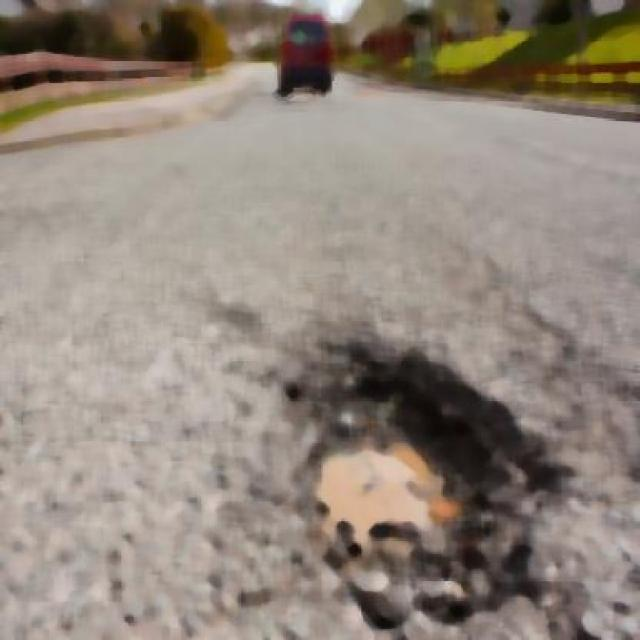Pothole: (294, 392, 444, 602)
